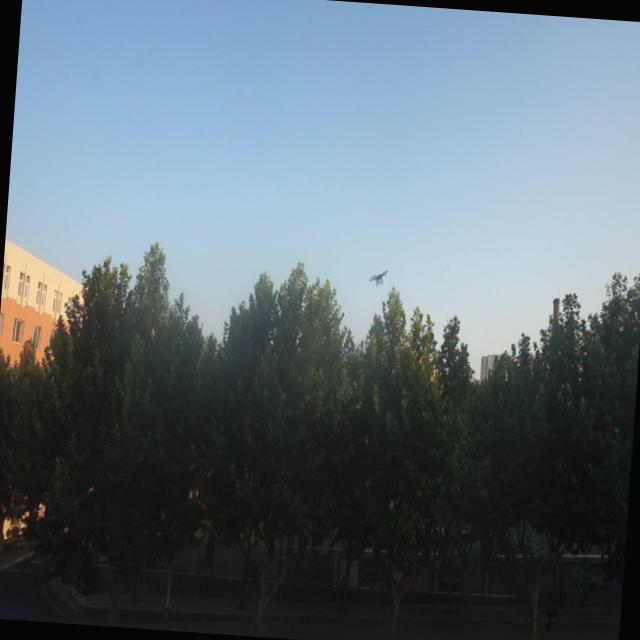drone: (366, 261, 390, 293)
